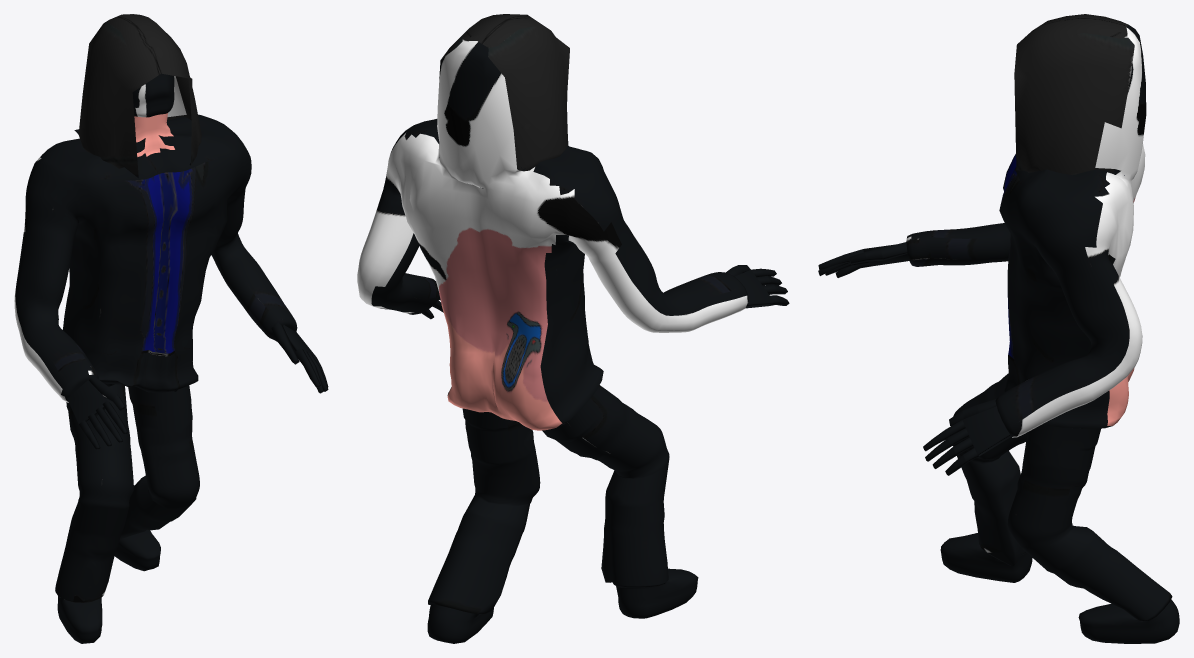
The model's file is keyFrame05.obj.
The picture shows the model from 3 angles, left to right: view 1: azimuth 30°, elevation 25°; view 2: azimuth 150°, elevation 25°; view 3: azimuth 270°, elevation 25°; orthographic projection. The views are drawn at different scales.
Visible parts, largest first — view 1: pasted__polySurface71 group4; view 2: pasted__polySurface71 group4; view 3: pasted__polySurface71 group4.
Boxes of the visible parts, x1=… form: pasted__polySurface71 group4: x1=14, y1=14, x2=328, y2=643; pasted__polySurface71 group4: x1=357, y1=14, x2=789, y2=643; pasted__polySurface71 group4: x1=818, y1=14, x2=1179, y2=643.
Size of the model in its own units: 6.6 by 12.2 by 6.54.
Materials: 1 (1 with a texture image).
